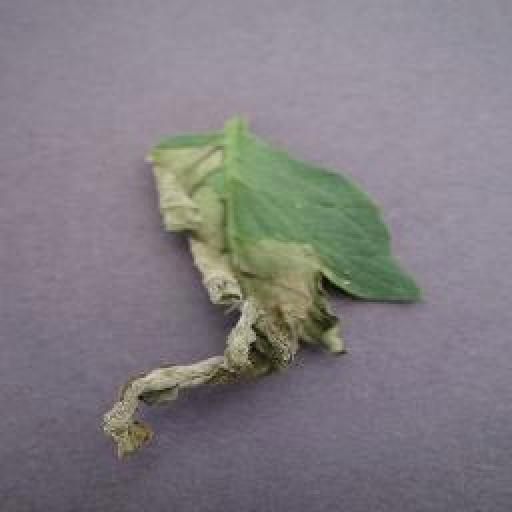disease_tomato: (100, 131, 420, 457)
